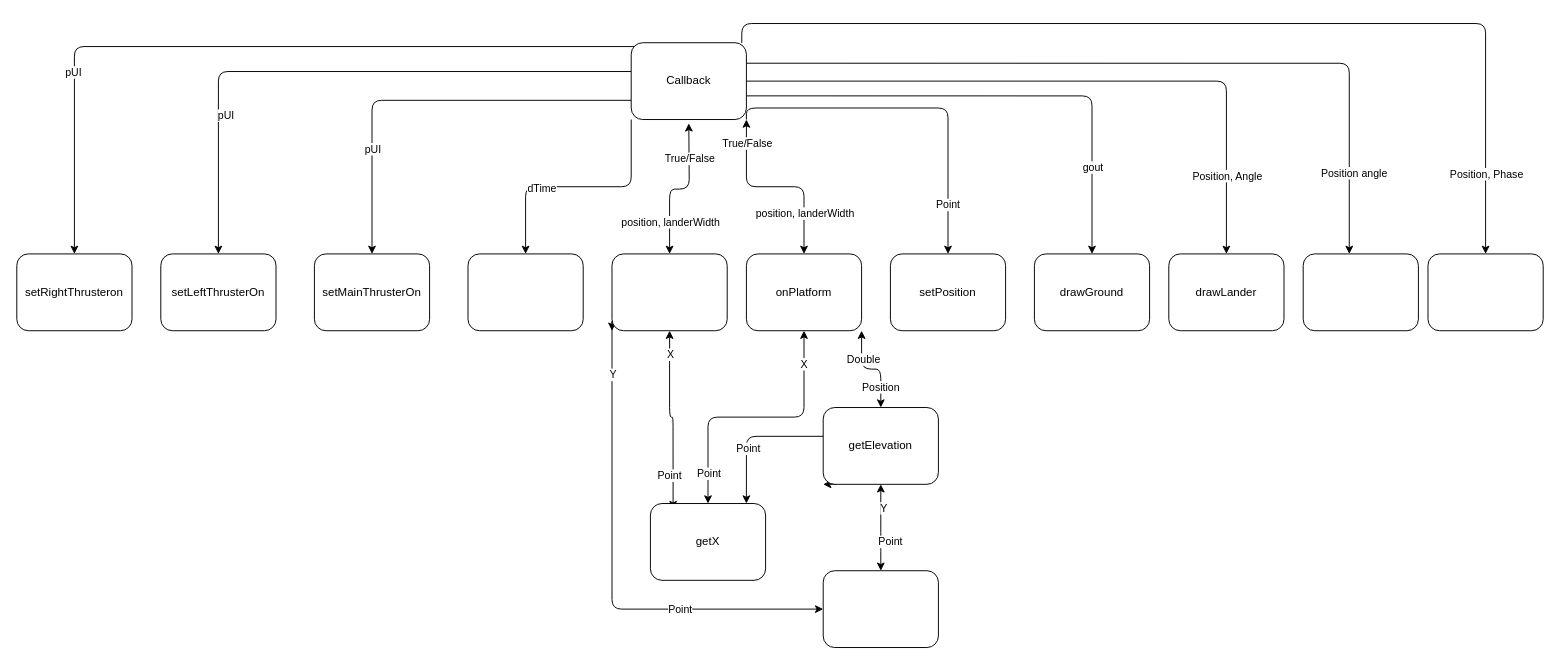
The diagram is 1560 pixels wide and 664 high, and some of its shapes have lost their labels. The centre of each missing label's shape, as x and y in pixels:
drawFlames: pixel 1360 292
drawStar: pixel 1485 292
getY: pixel 880 609
hitGround: pixel 669 292
move: pixel 525 292
